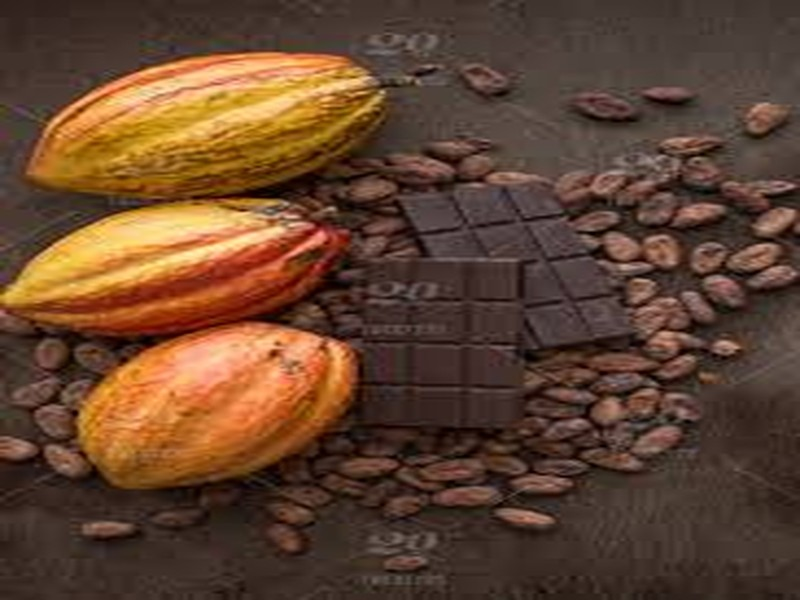Cacaopod: (25, 52, 390, 201)
